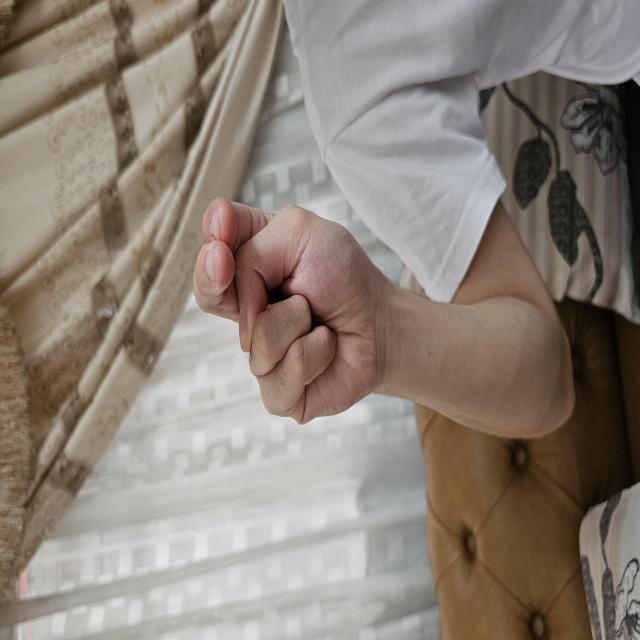N_TILDE: (154, 158, 441, 468)
